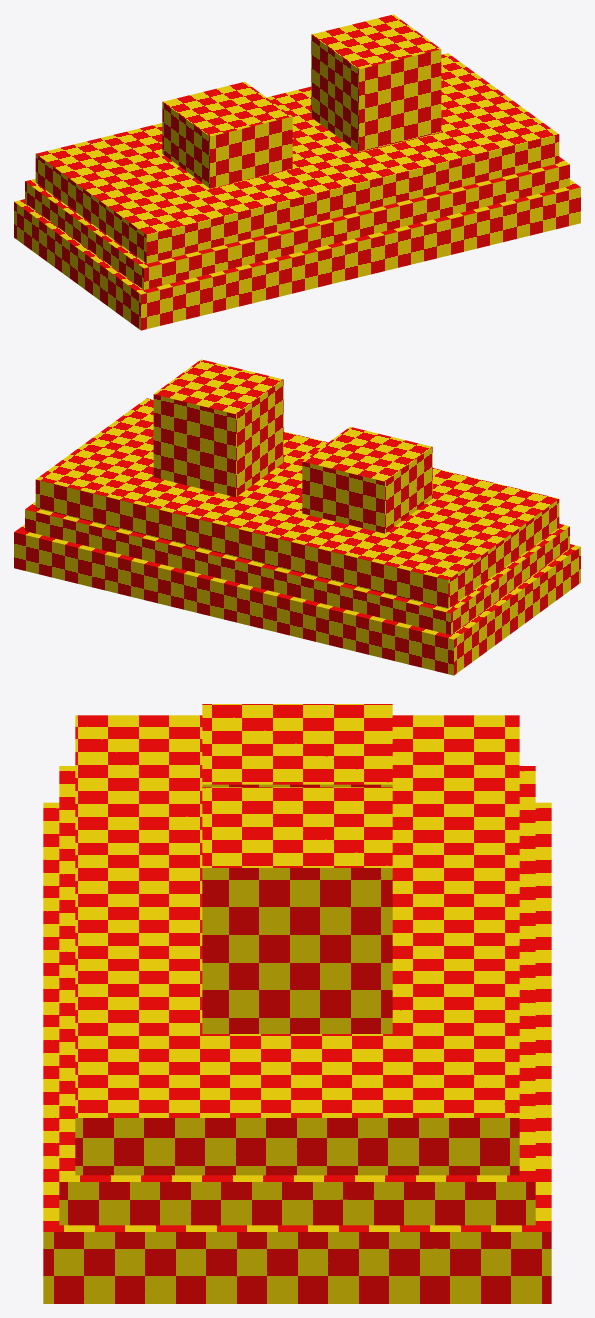
The model's file is Showcase.fbx.
3 renders of one model, top to bottom at view 1: azimuth 30°, elevation 25°; view 2: azimuth 150°, elevation 25°; view 3: azimuth 270°, elevation 25°, orthographic. The views are drawn at different scales.
Visible parts, largest first — view 1: ShowCase; view 2: ShowCase; view 3: ShowCase.
Boxes of the visible parts, bbox=[...] form: ShowCase: bbox=[14, 14, 580, 330]; ShowCase: bbox=[14, 359, 580, 675]; ShowCase: bbox=[43, 704, 551, 1303].
Size of the model in its own units: 128 by 47.07 by 64.
